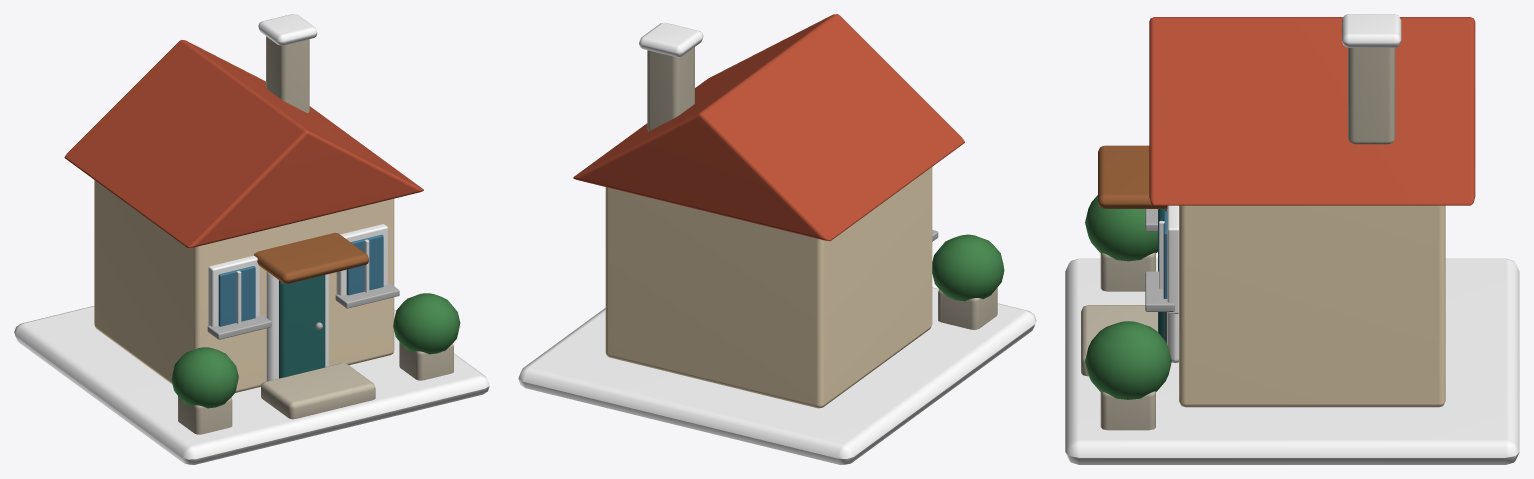
File: house.glb
3 views of the same model, side by side, from view 1: azimuth 30°, elevation 25°; view 2: azimuth 150°, elevation 25°; view 3: azimuth 270°, elevation 25° (orthographic). The views are drawn at different scales.
Visible parts, largest first — view 1: Gabled roof, Batch_Porcelain_, House, Batch_Warm stone_, Batch_Leaves_, Front door, Door canopy, Batch_Blue windows_, Batch_Stone_, Batch_Chalk_; view 2: House, Gabled roof, Batch_Porcelain_, Batch_Warm stone_, Batch_Leaves_; view 3: Gabled roof, House, Batch_Porcelain_, Batch_Warm stone_, Batch_Leaves_, Door canopy, Batch_Stone_.
Part boxes in pixels (left/top/right/bottom): Gabled roof: left=64, top=40, right=423, bottom=248; Batch_Porcelain_: left=14, top=14, right=489, bottom=464; House: left=94, top=180, right=394, bottom=392; Batch_Warm stone_: left=178, top=36, right=453, bottom=434; Batch_Leaves_: left=171, top=293, right=460, bottom=408; Front door: left=279, top=275, right=325, bottom=378; Door canopy: left=253, top=232, right=368, bottom=283; Batch_Blue windows_: left=218, top=234, right=383, bottom=326; Batch_Stone_: left=207, top=282, right=399, bottom=339; Batch_Chalk_: left=236, top=239, right=369, bottom=323; House: left=605, top=167, right=932, bottom=408; Gabled roof: left=573, top=14, right=964, bottom=241; Batch_Porcelain_: left=518, top=22, right=1036, bottom=464; Batch_Warm stone_: left=647, top=47, right=997, bottom=329; Batch_Leaves_: left=932, top=234, right=1004, bottom=301; Gabled roof: left=1149, top=17, right=1475, bottom=205; House: left=1179, top=205, right=1445, bottom=407; Batch_Porcelain_: left=1065, top=14, right=1519, bottom=464; Batch_Warm stone_: left=1081, top=48, right=1395, bottom=430; Batch_Leaves_: left=1085, top=195, right=1171, bottom=399; Door canopy: left=1098, top=145, right=1167, bottom=208; Batch_Stone_: left=1145, top=209, right=1174, bottom=311.
Bounding box in the file's own units: 2.3 × 2.19 × 2.3.
